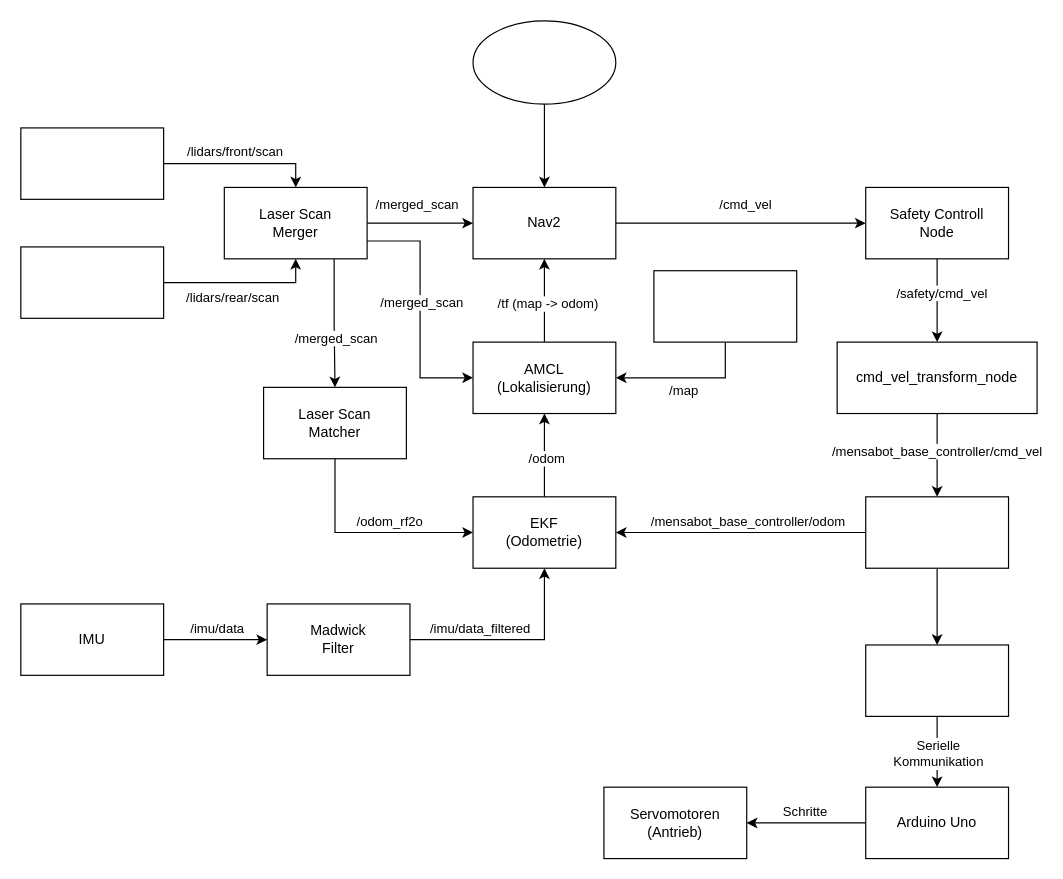
This 1063x879 diagram has some shape labels left out. The centre of each missing label's shape, as x and y in pixels:
"Benutzer: Ziel (Goal)" goes at [544,62].
"Diff Drive Controller" goes at [937,532].
"Front LiDAR" goes at [92,163].
"Hardware Interface" goes at [937,680].
"Map Server" goes at [725,306].
"Rear LiDAR" goes at [92,282].
